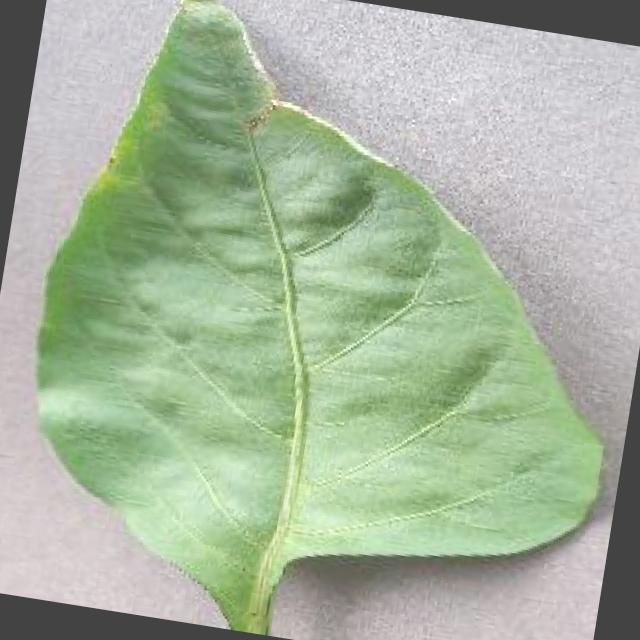Leaf: (56, 44, 619, 545)
